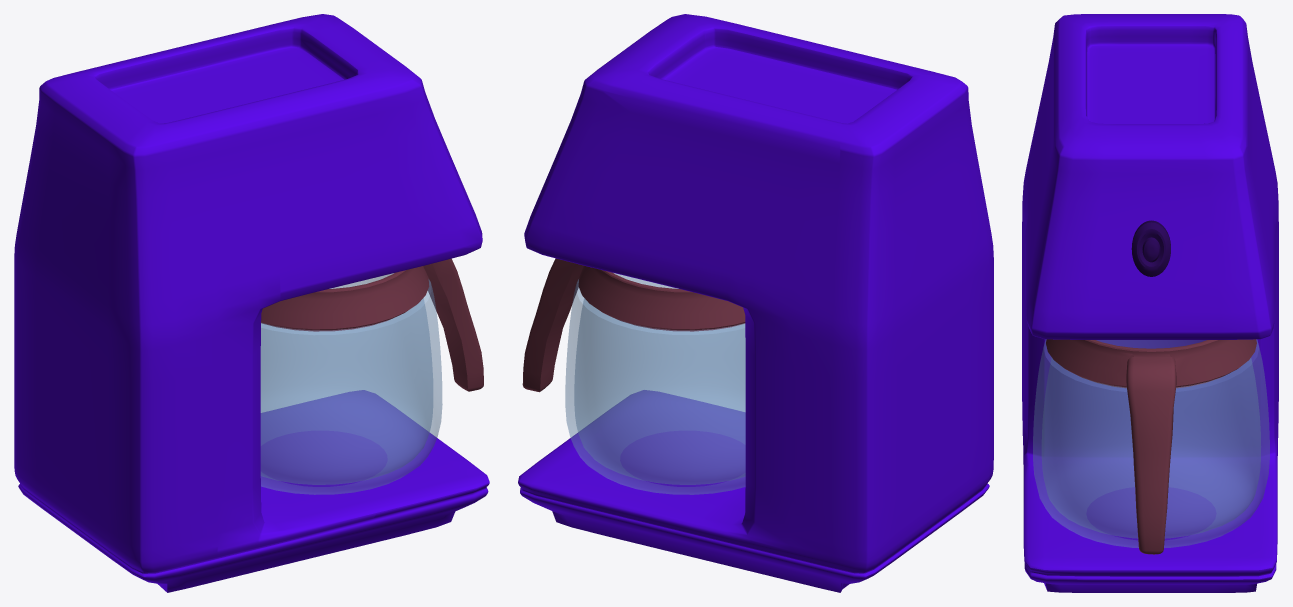
The model's file is CAFETERA.fbx.
3 renders of one model, left to right at view 1: azimuth 30°, elevation 25°; view 2: azimuth 150°, elevation 25°; view 3: azimuth 270°, elevation 25°, orthographic. The views are drawn at different scales.
Visible parts, largest first — view 1: Cube.058, taza de cafe.002, taza de cafe.001; view 2: Cube.058, taza de cafe.002, taza de cafe.001; view 3: Cube.058, taza de cafe.002, taza de cafe.001, Cylinder.023.
Boxes of the visible parts, x1=… form: Cube.058: x1=14, y1=14, x2=489, y2=592; taza de cafe.002: x1=260, y1=273, x2=442, y2=494; taza de cafe.001: x1=261, y1=258, x2=483, y2=391; Cube.058: x1=518, y1=14, x2=993, y2=592; taza de cafe.002: x1=565, y1=273, x2=745, y2=494; taza de cafe.001: x1=522, y1=258, x2=745, y2=392; Cube.058: x1=1022, y1=14, x2=1278, y2=592; taza de cafe.002: x1=1033, y1=339, x2=1269, y2=547; taza de cafe.001: x1=1046, y1=339, x2=1256, y2=554; Cylinder.023: x1=1131, y1=220, x2=1170, y2=276.
Size of the model in its own units: 59.32 by 63.54 by 33.38.
